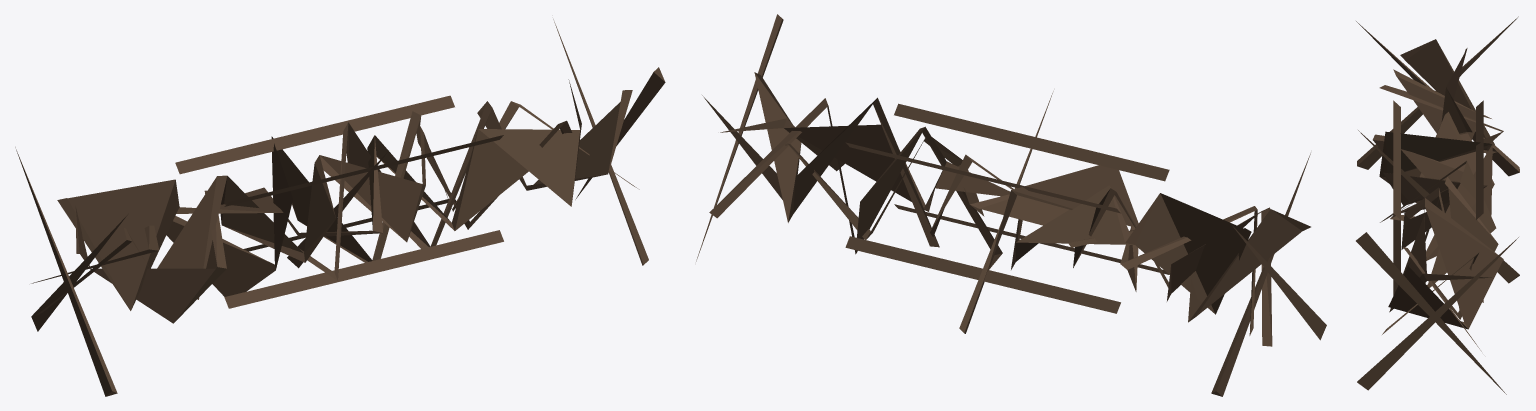
File: barbed-barrier.lod2.glb
3 views of the same model, side by side, from view 1: azimuth 30°, elevation 25°; view 2: azimuth 150°, elevation 25°; view 3: azimuth 270°, elevation 25° (orthographic). The views are drawn at different scales.
Visible parts, largest first — view 1: object_0_object_0_0; view 2: object_0_object_0_0; view 3: object_0_object_0_0.
Part boxes in pixels (left/top/right/bottom): object_0_object_0_0: left=15, top=19, right=665, bottom=396; object_0_object_0_0: left=696, top=14, right=1326, bottom=396; object_0_object_0_0: left=1356, top=16, right=1519, bottom=394.
Size of the model in its own units: 4.9 by 1.63 by 1.49.
